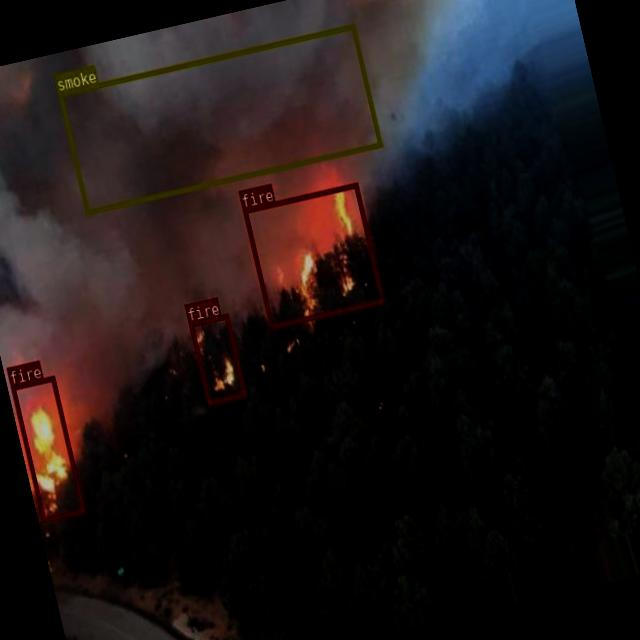fire: (241, 181, 384, 328), (10, 374, 85, 522), (188, 312, 246, 404)
smoke: (58, 23, 382, 214)
